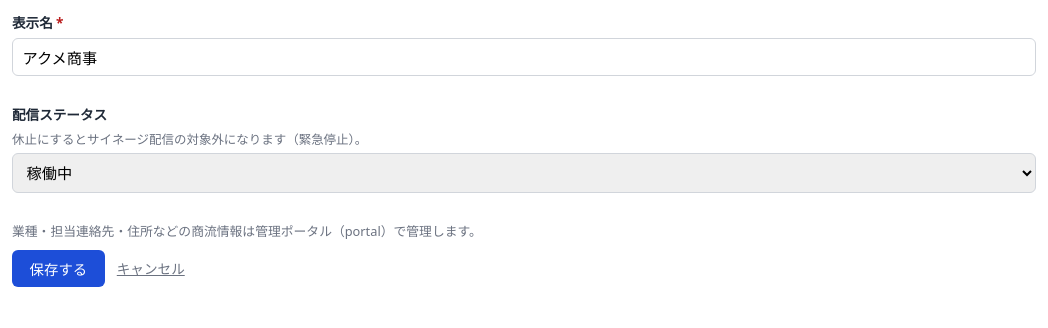
Test case: AdvertiserEditForm 最小縮退 (表示名 + 配信ステータス) › 表示名は既定値を埋め、空にして送信すると項目エラーで送信を止める
Clear the field labelled "表示名" at coordinates (524, 57), box [12, 38, 1036, 76]
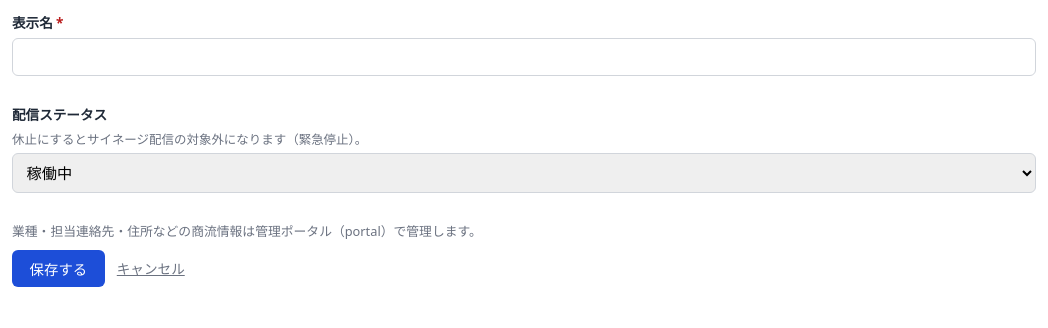
Click the button "保存する" at coordinates (58, 268), box [12, 250, 105, 287]
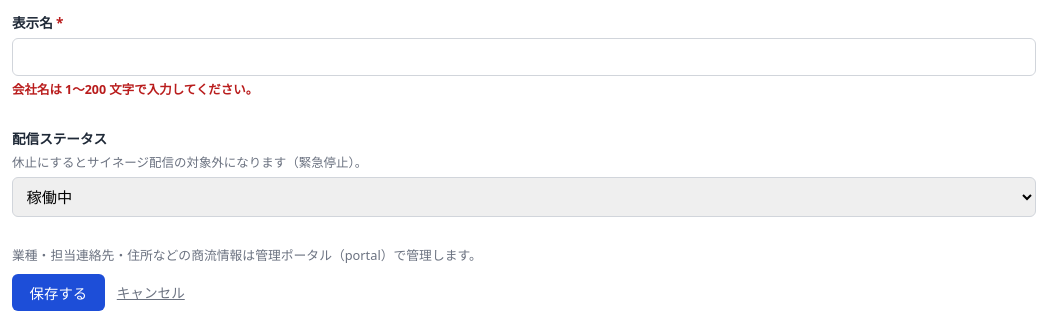
Result: the text "会社名は 1〜200 文字で入力してください。" is shown at [12, 81, 258, 98]
